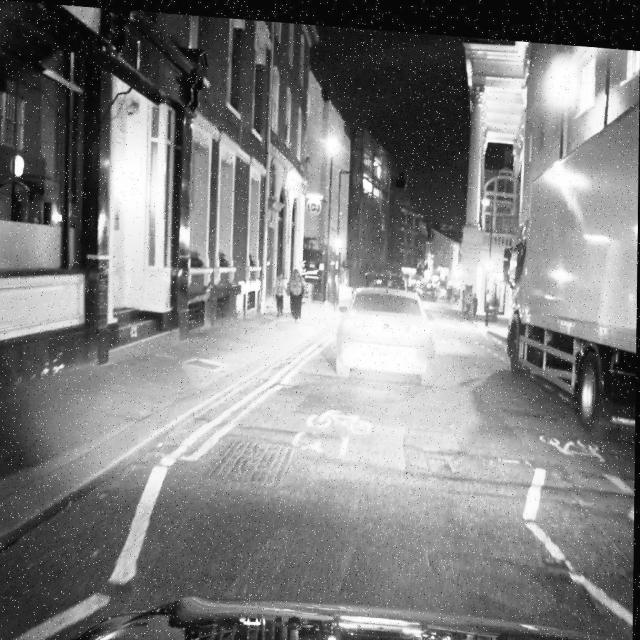Truck: (501, 77, 640, 437)
